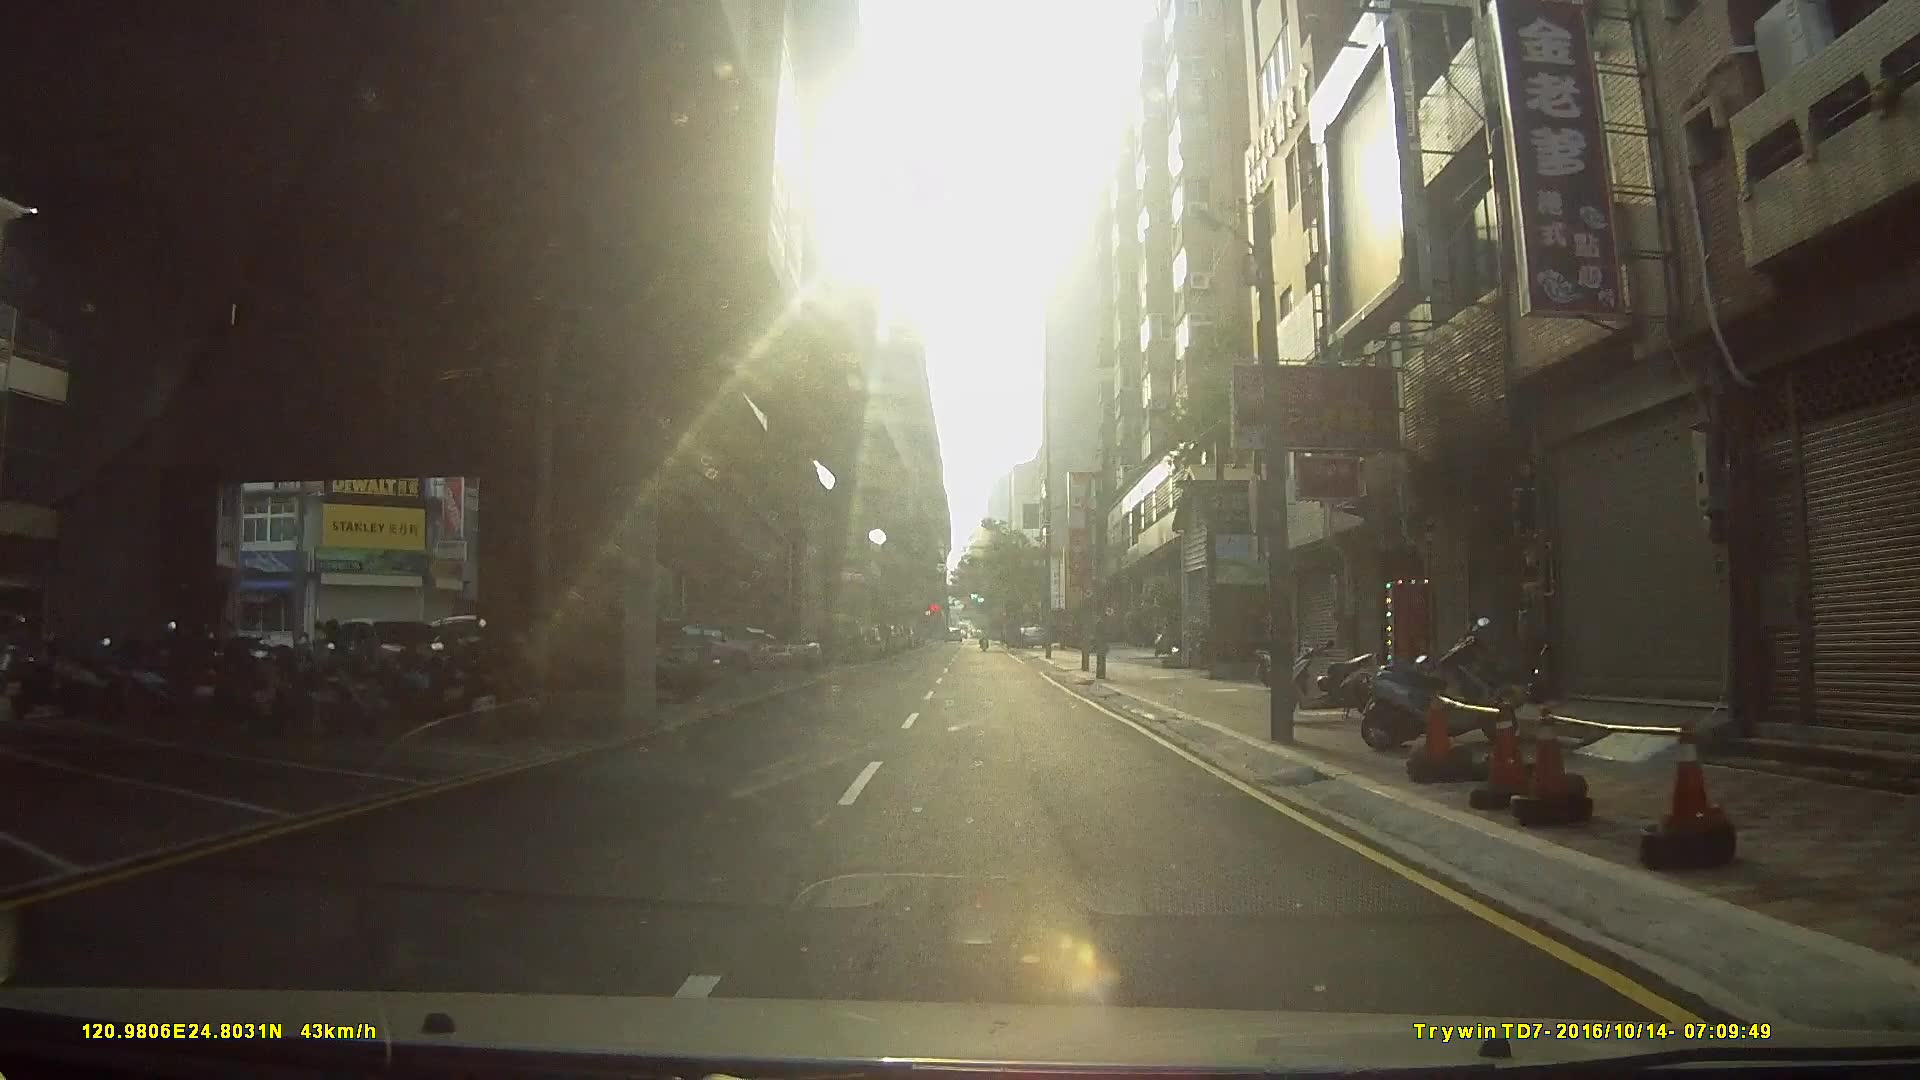vehicle: (547, 612, 721, 707), (659, 620, 794, 670)
